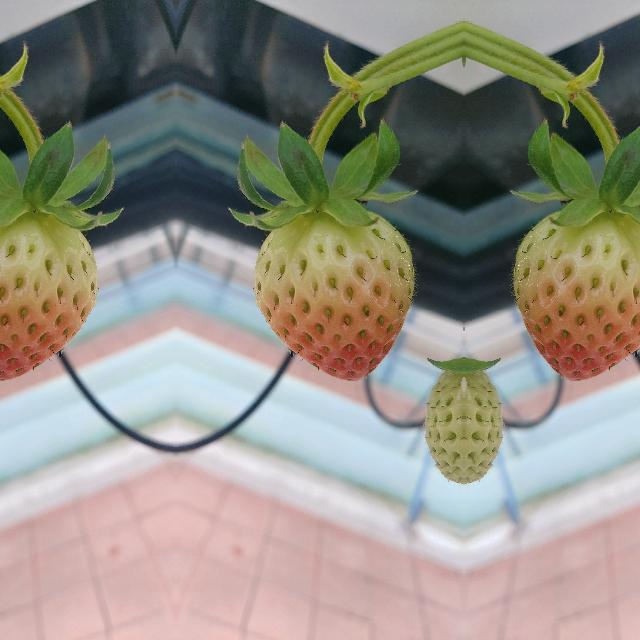Health_25: (422, 366, 462, 488), (464, 366, 504, 488)
Health_50: (253, 210, 413, 380), (513, 210, 640, 379), (0, 210, 97, 379)
